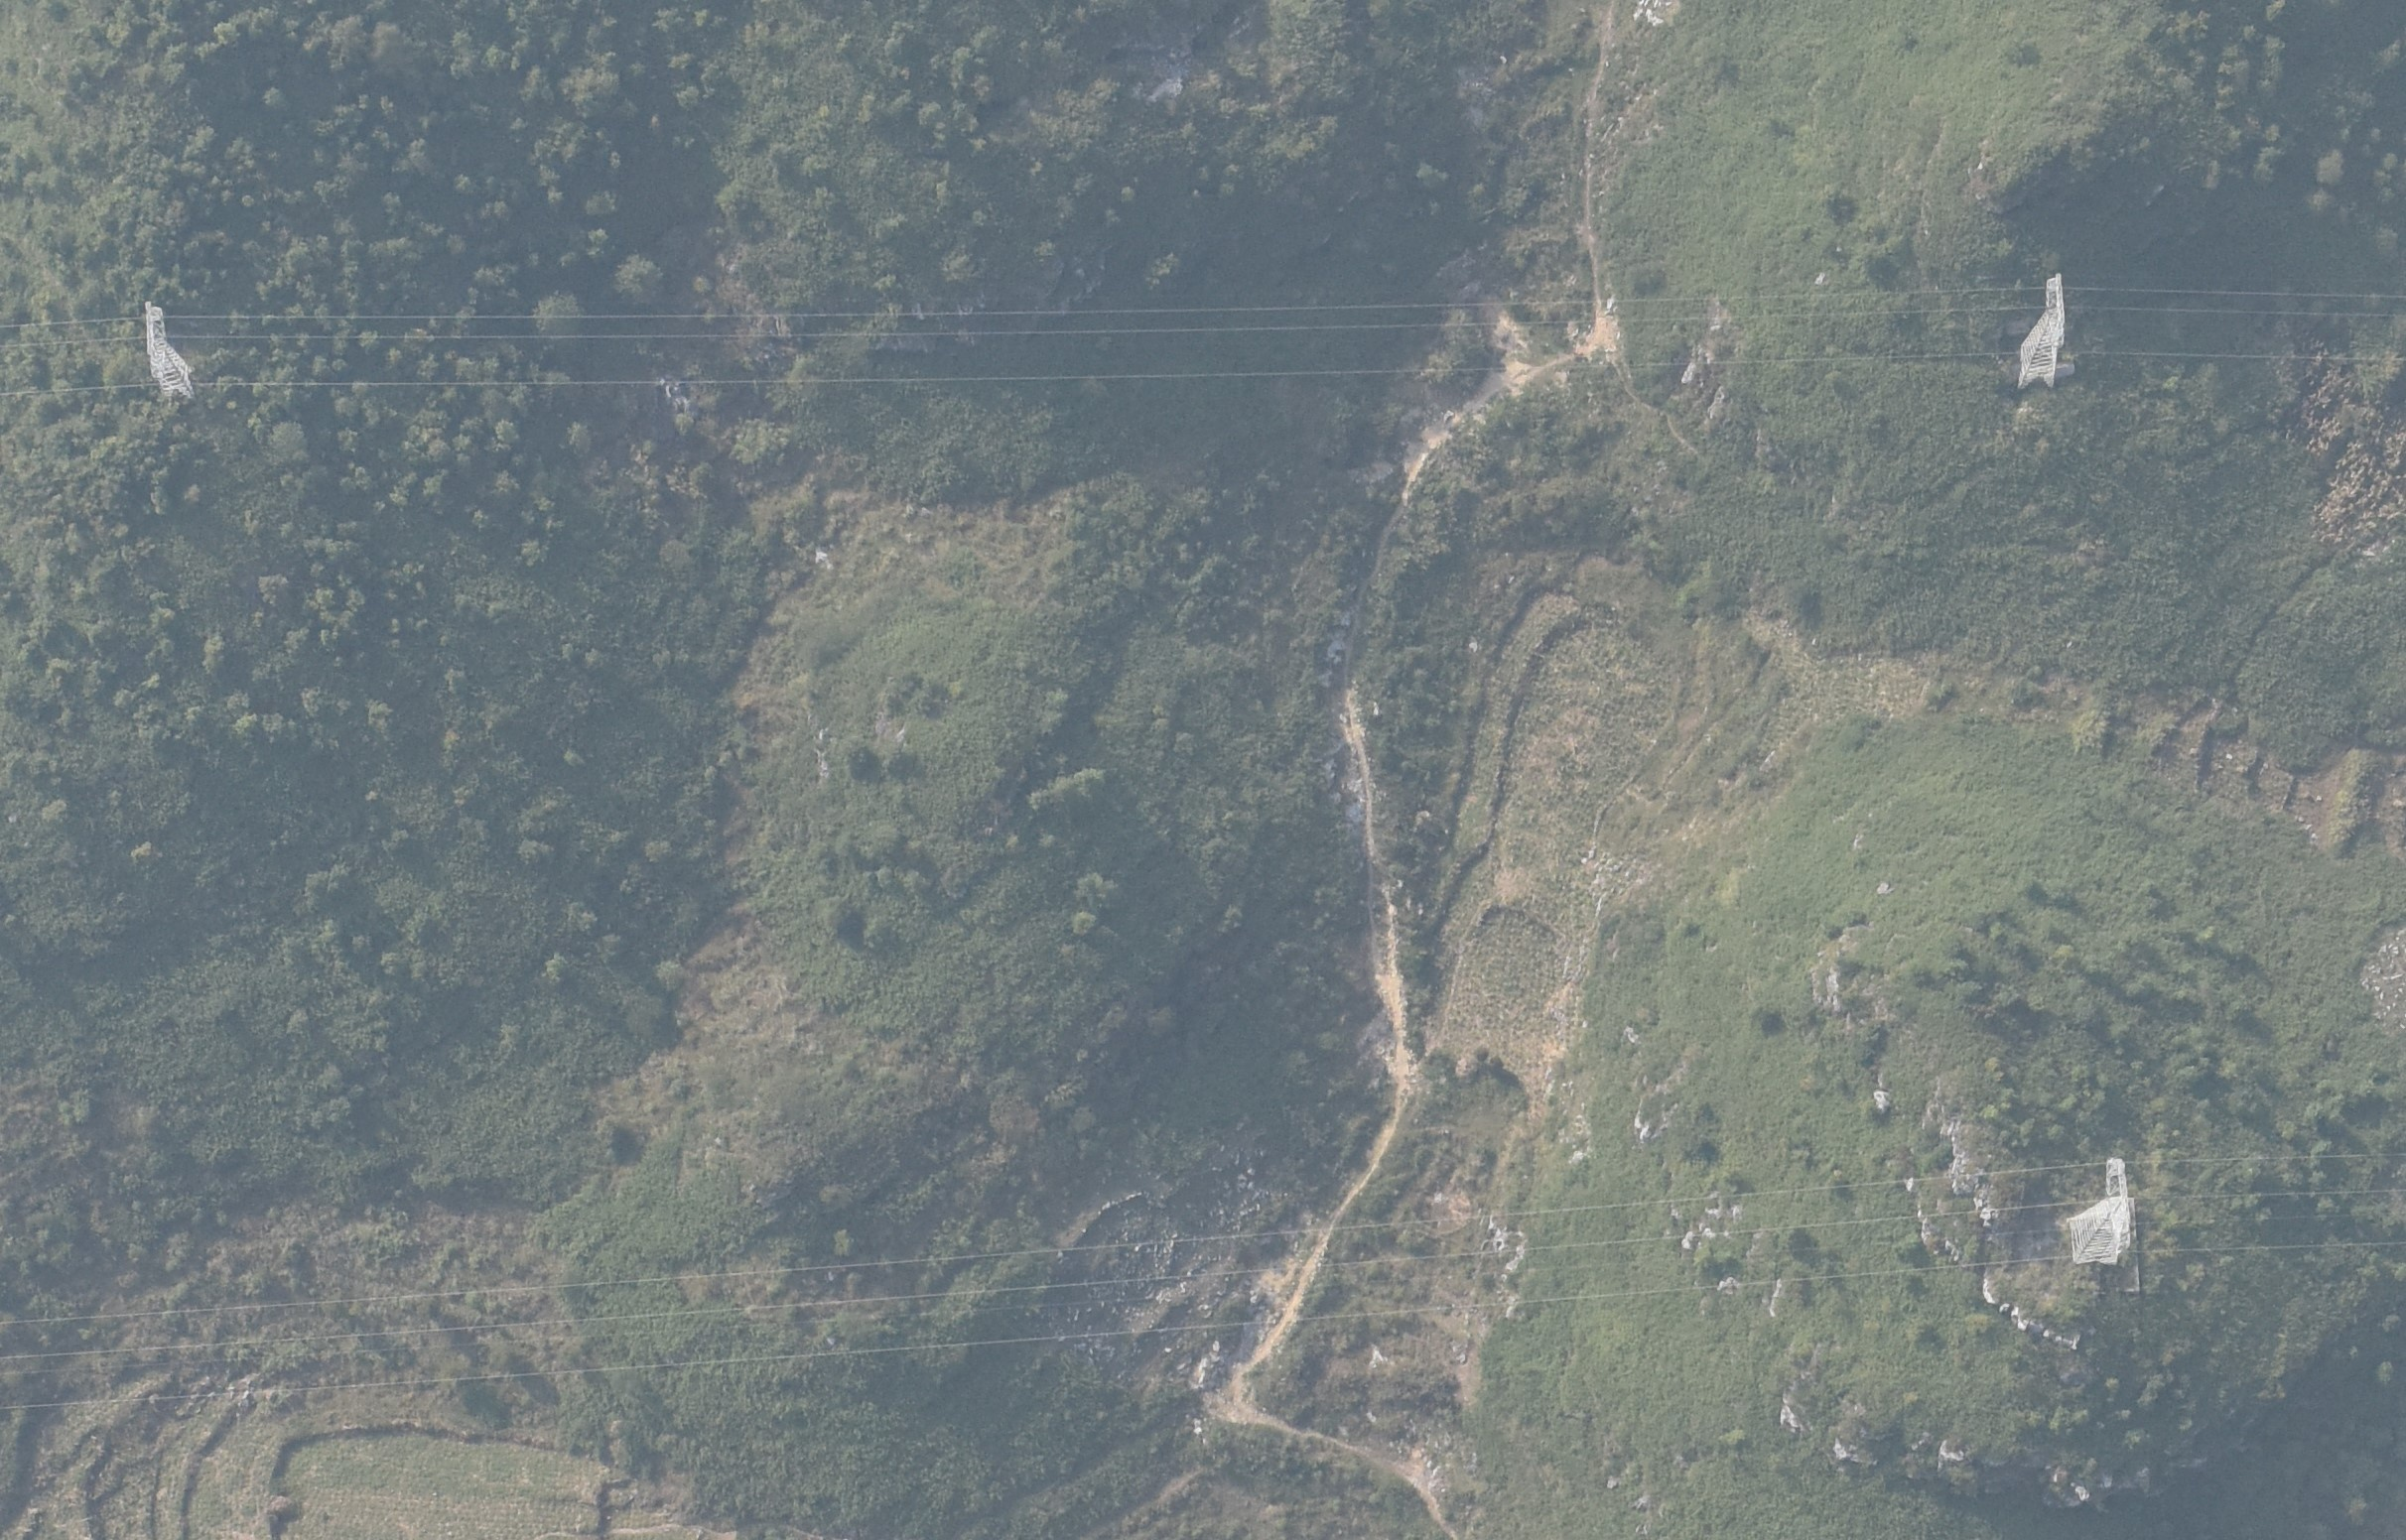cable-tower: (2066, 1159, 2132, 1266), (2017, 274, 2066, 388), (144, 300, 193, 398)
